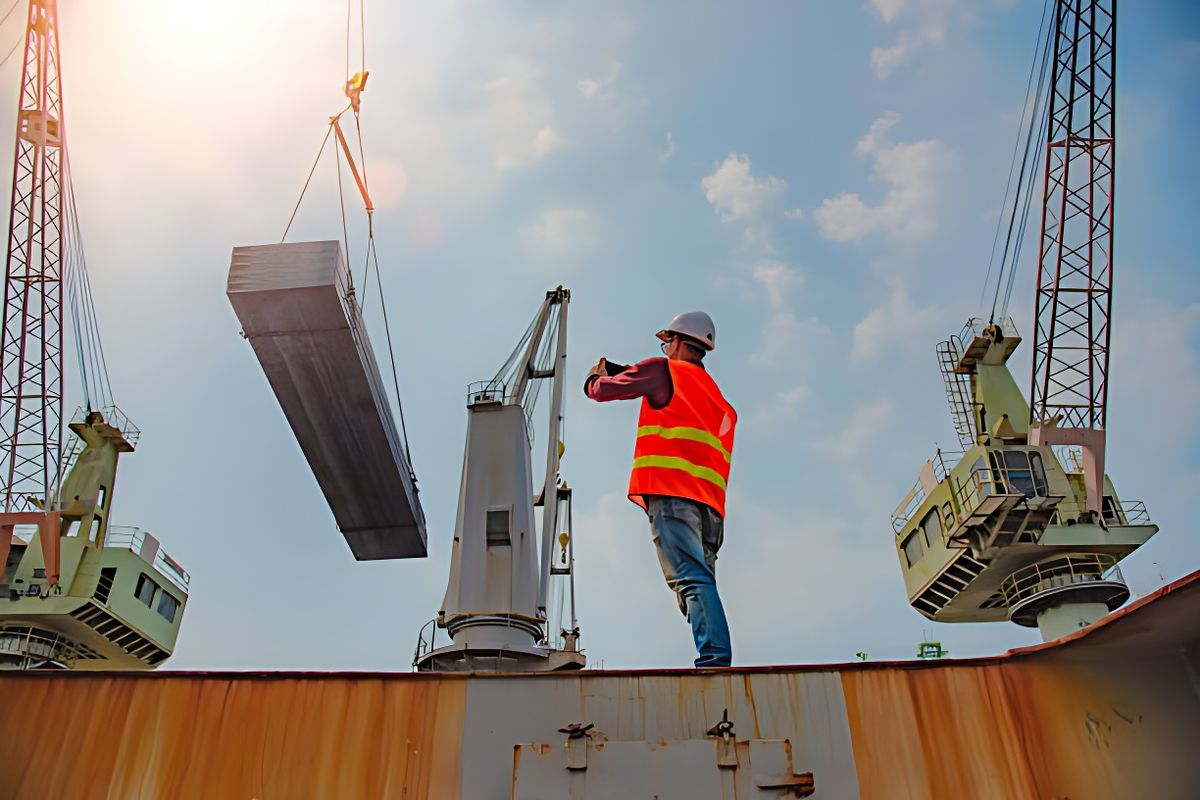hardhat: (655, 307, 728, 359)
person: (581, 282, 800, 664)
safety_vest: (628, 352, 765, 508)
